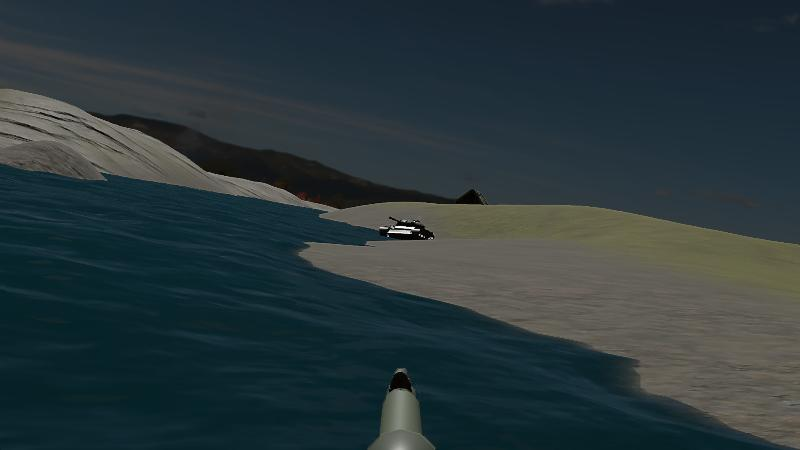Tank: (377, 214, 436, 243)
